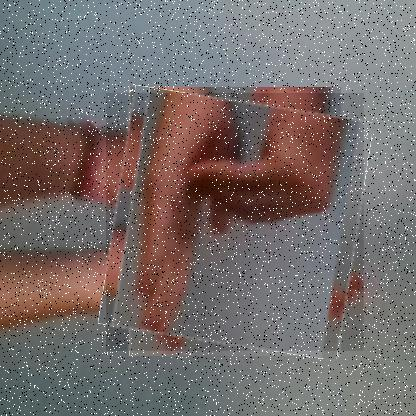Z: (106, 93, 365, 352)
